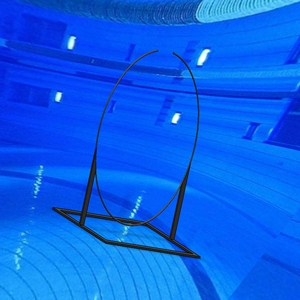circle: (51, 48, 203, 259)
